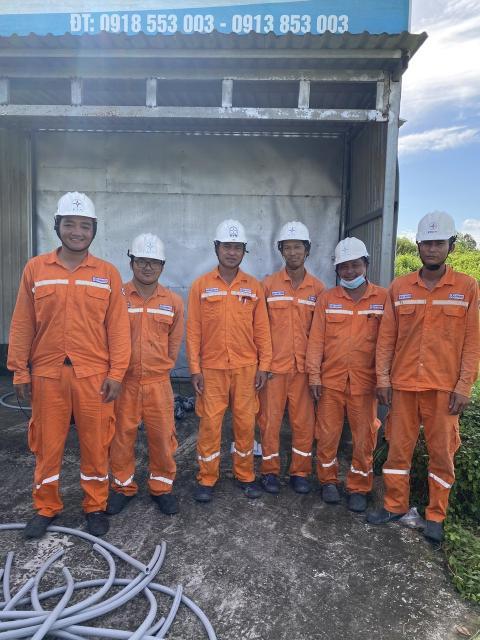helmet: (404, 207, 462, 246), (120, 228, 173, 267), (57, 183, 107, 224), (209, 215, 249, 246), (274, 218, 312, 249), (328, 239, 376, 263)
shoes: (15, 505, 63, 541), (77, 503, 115, 544), (415, 508, 456, 545), (367, 494, 403, 528), (144, 488, 182, 520), (344, 483, 373, 516), (258, 460, 284, 495), (234, 470, 263, 501), (108, 478, 130, 518), (315, 477, 342, 508), (187, 477, 213, 509), (288, 470, 317, 498)
